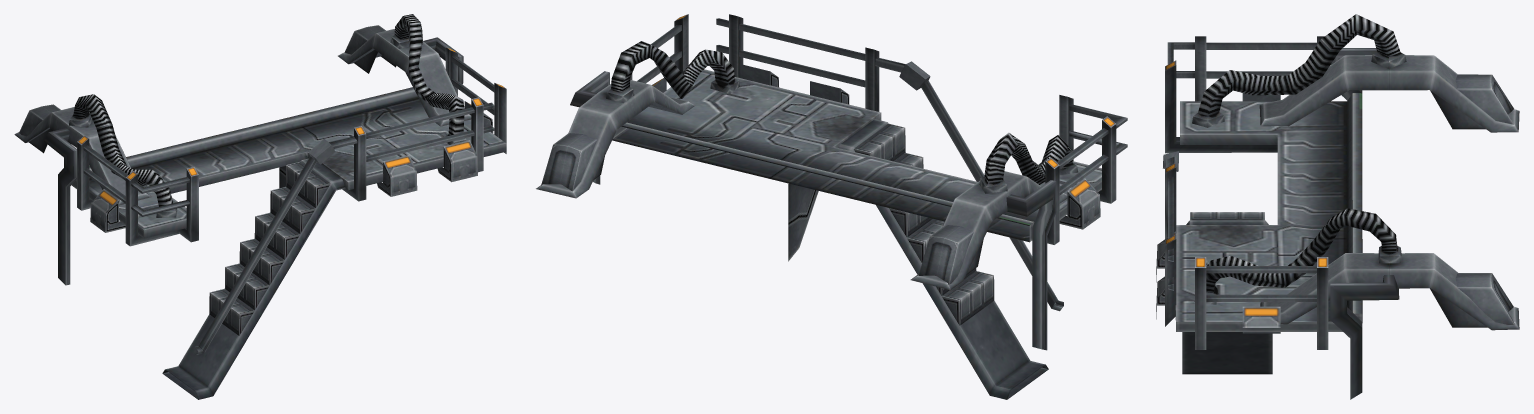
The model's file is SM_EN_1002_jiazi01.FBX.
The picture shows the model from 3 angles, left to right: view 1: azimuth 30°, elevation 25°; view 2: azimuth 150°, elevation 25°; view 3: azimuth 270°, elevation 25°; orthographic projection. The views are drawn at different scales.
Parts seen in each view (by area): view 1: SM_EN_1002_jiazi01; view 2: SM_EN_1002_jiazi01; view 3: SM_EN_1002_jiazi01.
Part boxes in pixels (x1,y1,x2,y2): SM_EN_1002_jiazi01: (14,14,506,399); SM_EN_1002_jiazi01: (536,14,1127,399); SM_EN_1002_jiazi01: (1156,14,1519,399).
Size of the model in its own units: 151 by 95.67 by 95.43.
